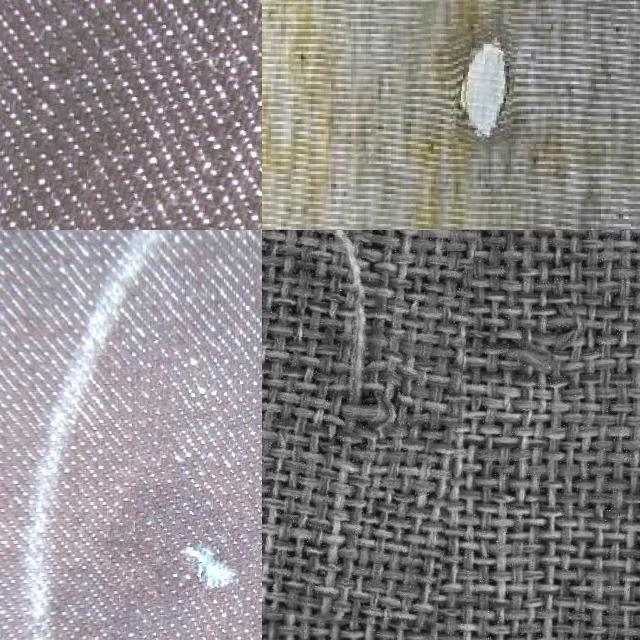Thread_other: (262, 230, 481, 620), (113, 346, 262, 640), (64, 73, 262, 230)
seam: (452, 32, 515, 142)
